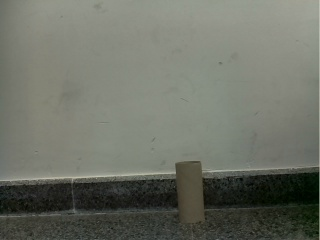rollo papel: (175, 161, 205, 222)
